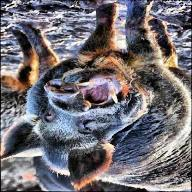boar: (0, 7, 192, 192)
